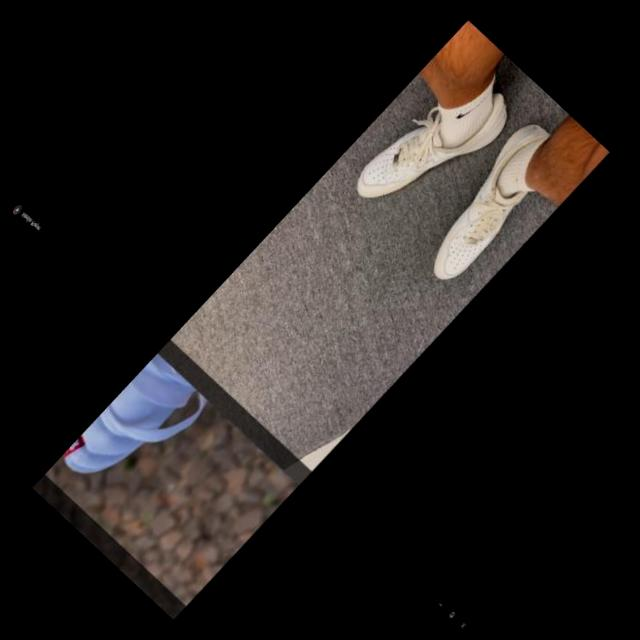nike_original_airforce: (342, 49, 524, 248), (401, 104, 576, 300)
